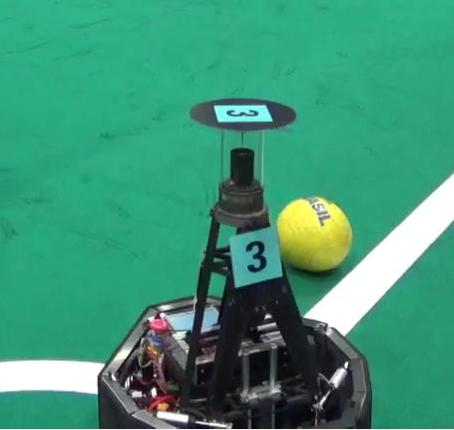robot: (94, 95, 376, 428)
